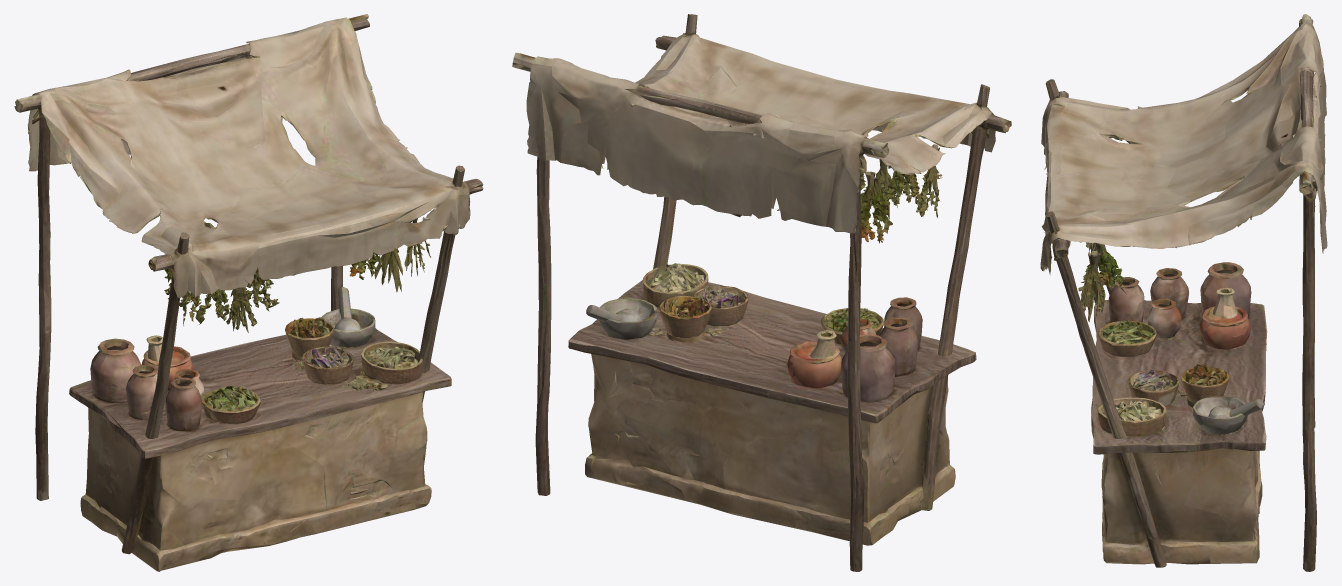
Rendered from et_herbstall.glb.
The picture shows the model from 3 angles, left to right: view 1: azimuth 30°, elevation 25°; view 2: azimuth 150°, elevation 25°; view 3: azimuth 270°, elevation 25°; orthographic projection. The views are drawn at different scales.
Size of the model in its own units: 1.7 by 1.9 by 1.22.
Materials: 1 (1 with a texture image).
